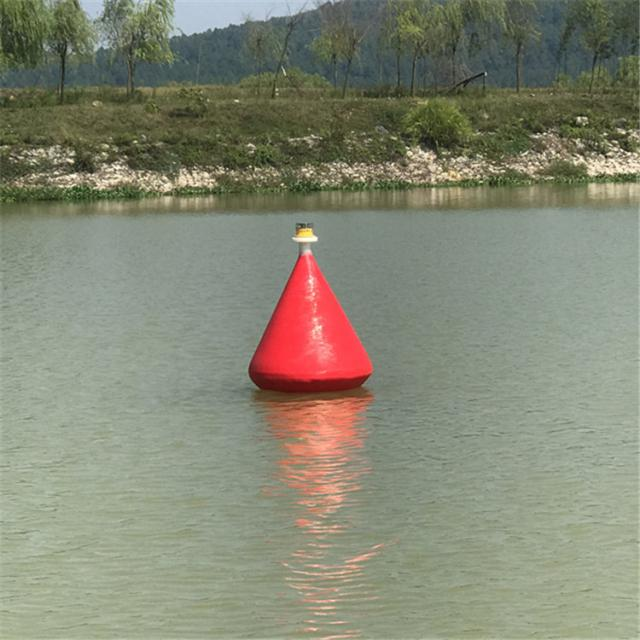buoy: (244, 220, 377, 398)
